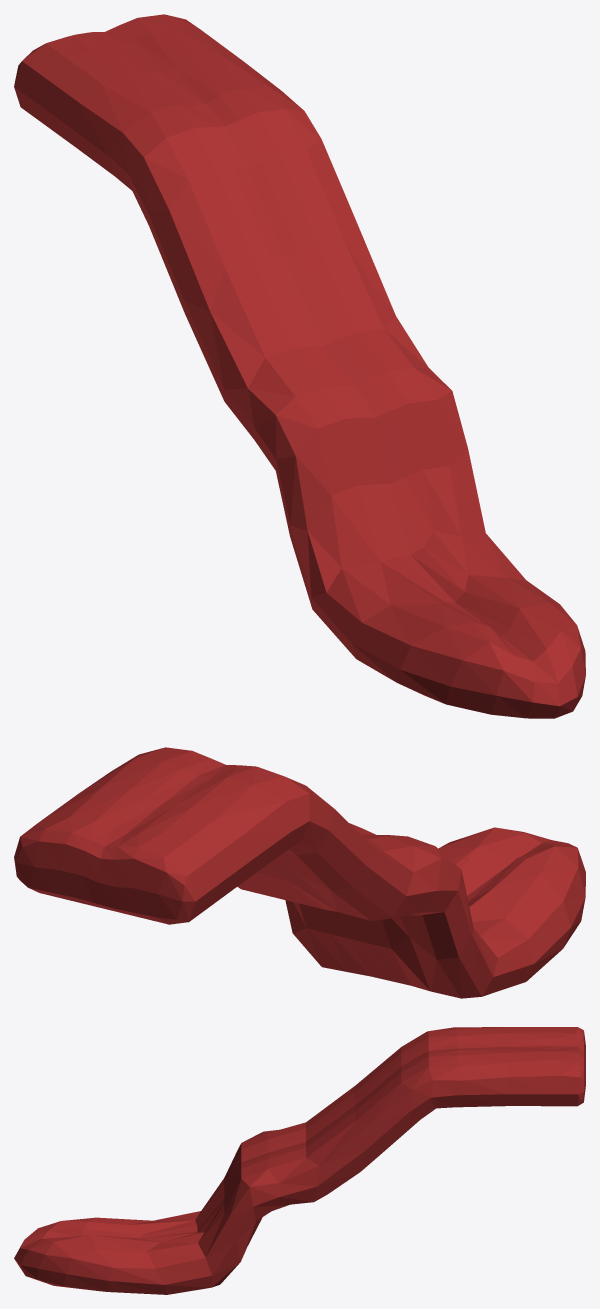
Rendered from tongue.fbx.
3 views of the same model, one above another, from view 1: azimuth 30°, elevation 25°; view 2: azimuth 150°, elevation 25°; view 3: azimuth 270°, elevation 25° (orthographic). The views are drawn at different scales.
Visible parts, largest first — view 1: brains; view 2: brains; view 3: brains.
Part boxes in pixels (x1,y1,x2,y2): brains: (14, 14, 585, 718); brains: (14, 747, 585, 998); brains: (14, 1027, 585, 1294).
Bounding box in the file's own units: 80.6 × 158 × 355.
